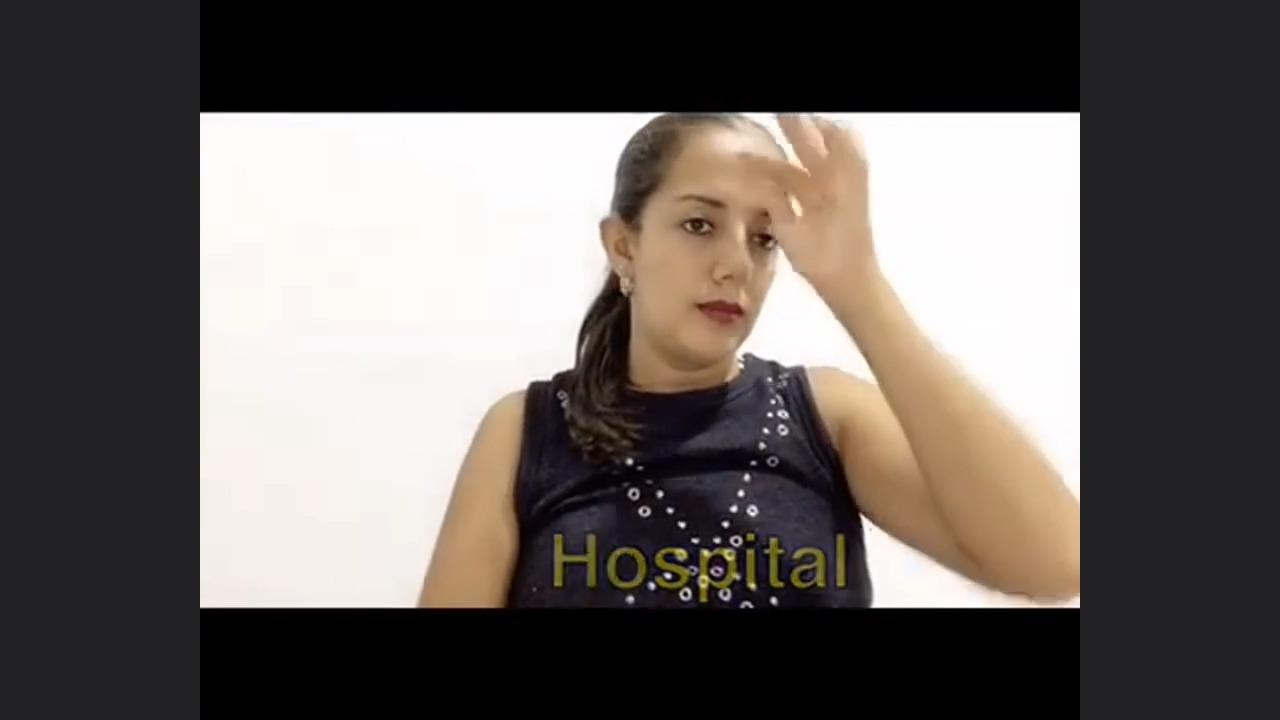Hospital: (446, 120, 1060, 501)
